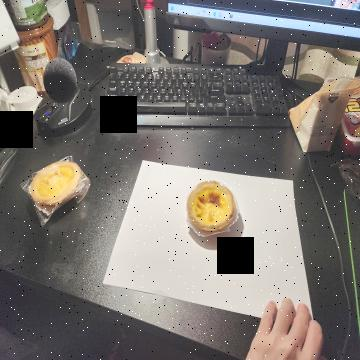EggTart: (186, 180, 236, 233)
